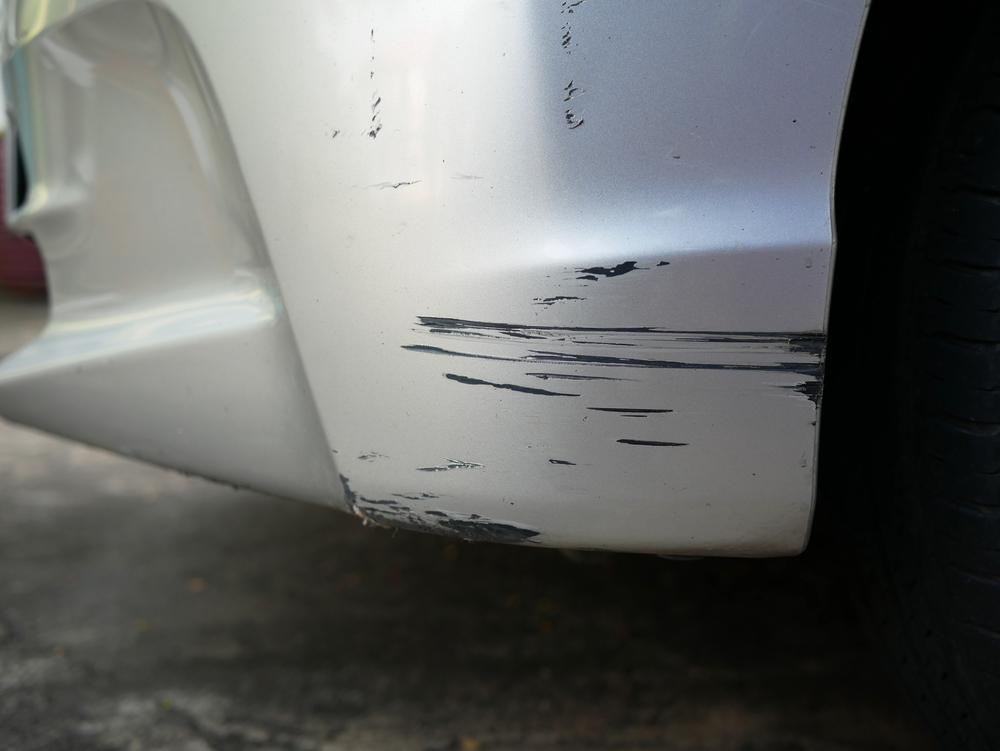scratch: (339, 251, 827, 544), (333, 10, 418, 209), (560, 0, 588, 130)
